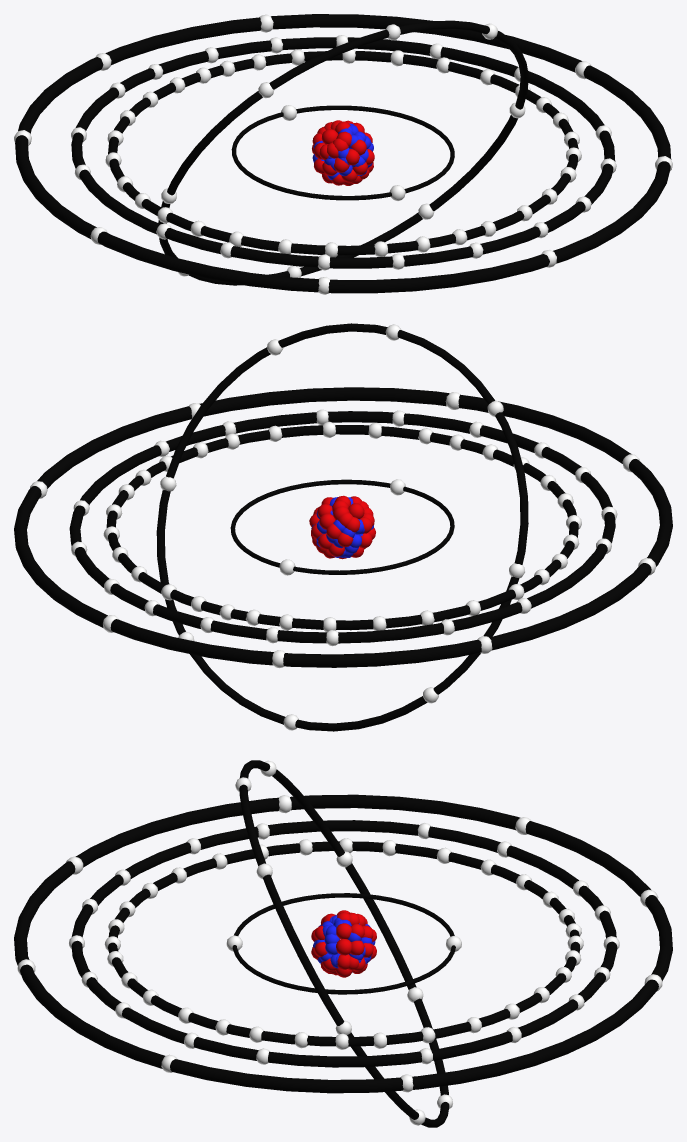
File: 51 Antimonio.fbx
3 views of the same model, one above another, from view 1: azimuth 30°, elevation 25°; view 2: azimuth 150°, elevation 25°; view 3: azimuth 270°, elevation 25° (orthographic).
Visible parts, largest first — view 1: Orbita.005, Orbita.004, Orbita.003, Orbita.002, Electron.111, Orbita.001; view 2: Orbita.005, Orbita.004, Orbita.002, Orbita.003, Electron.111, Orbita.001; view 3: Orbita.005, Orbita.004, Orbita.003, Orbita.002, Electron.111, Orbita.001.
Boxes of the visible parts, box(x1,y1,x2,y2) form: Orbita.005: box(15, 14, 671, 293); Orbita.004: box(71, 37, 615, 268); Orbita.003: box(108, 51, 578, 255); Orbita.002: box(158, 20, 528, 285); Electron.111: box(312, 120, 374, 185); Orbita.001: box(231, 105, 454, 200); Orbita.005: box(14, 387, 672, 667); Orbita.004: box(69, 411, 615, 643); Orbita.002: box(156, 323, 528, 731); Orbita.003: box(106, 425, 578, 630); Electron.111: box(309, 495, 375, 559); Orbita.001: box(230, 479, 454, 574); Orbita.005: box(14, 794, 672, 1093); Orbita.004: box(71, 820, 617, 1067); Orbita.003: box(108, 841, 579, 1046); Orbita.002: box(239, 760, 449, 1127); Electron.111: box(311, 910, 376, 977); Orbita.001: box(232, 893, 455, 994).
Bounding box in the file's own units: 27.46 × 27.46 × 15.21.
